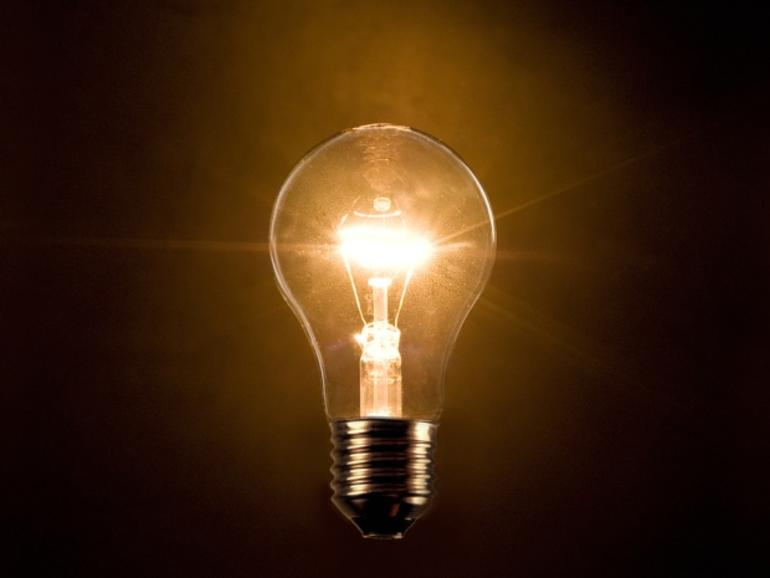Nonrec_Glass: (240, 113, 511, 551)
